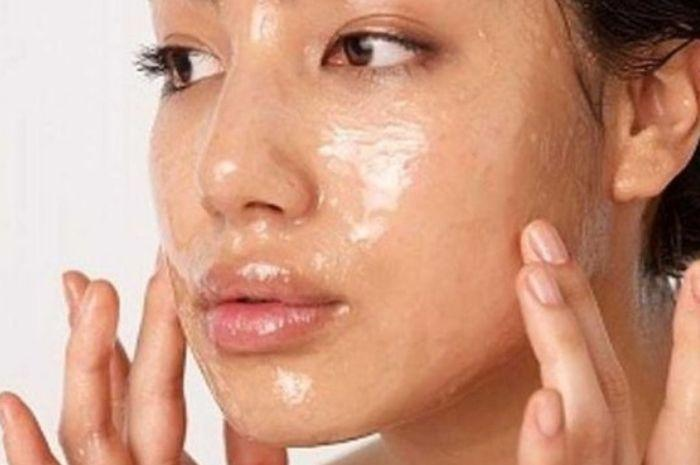Oily-Skin: (331, 87, 508, 278), (218, 365, 372, 429), (214, 73, 254, 196)
